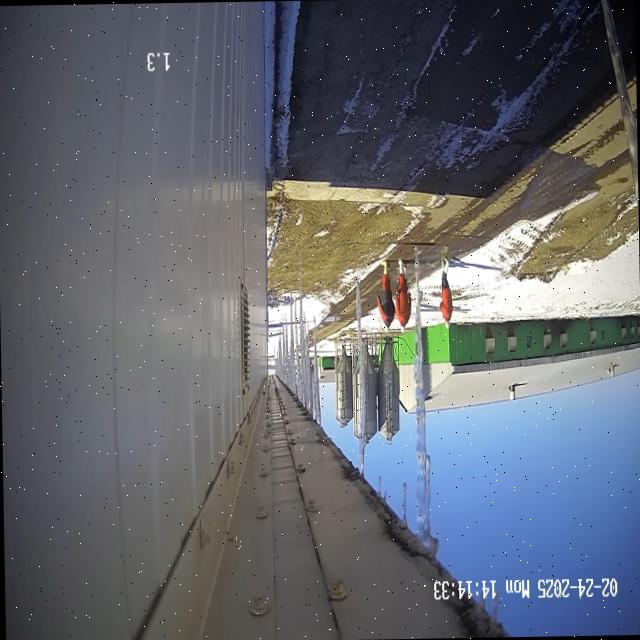Red uniform: (377, 261, 395, 328), (394, 260, 410, 330), (439, 259, 452, 327)
